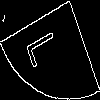L: (25, 25, 66, 70)
